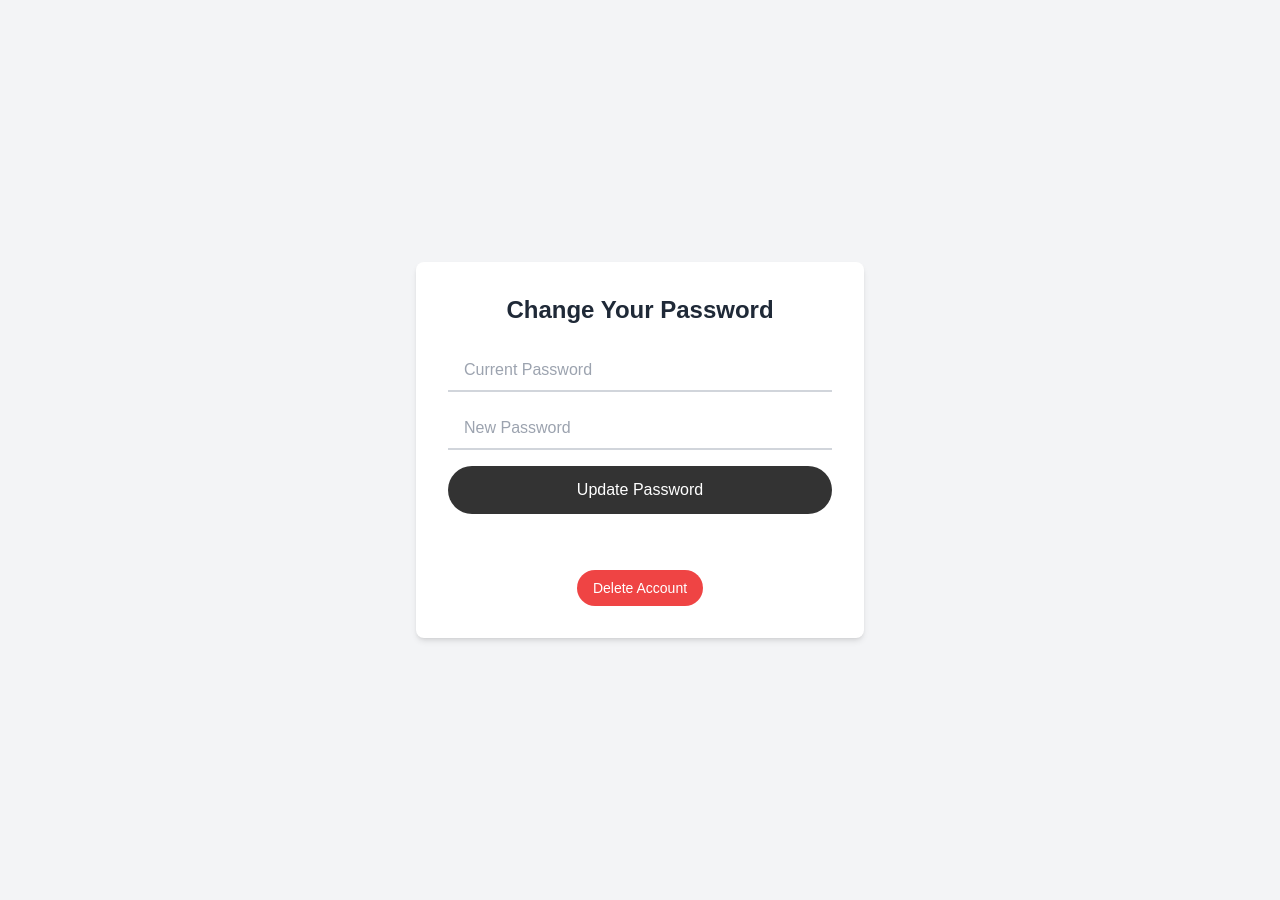
UpdateAccountPage › opens the delete account modal when current password is provided
Note: Enter the current password
Type "current-password" into the password field with placeholder "Current Password" at (640,371), box [448,350,832,392]
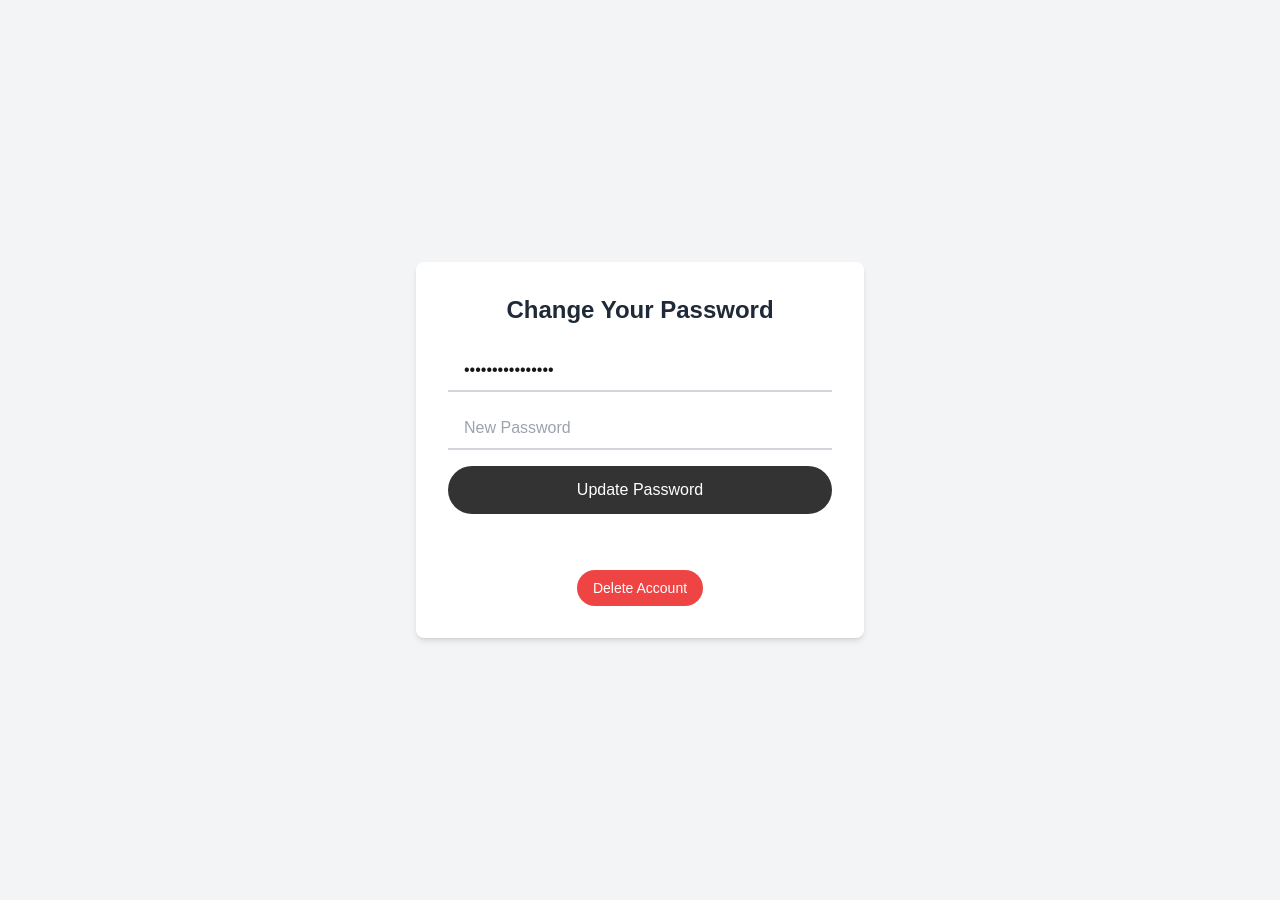
Note: Click the "Delete Account" button
Click the button with aria-label "delete your account" at (640,588), box [577,570,703,606]
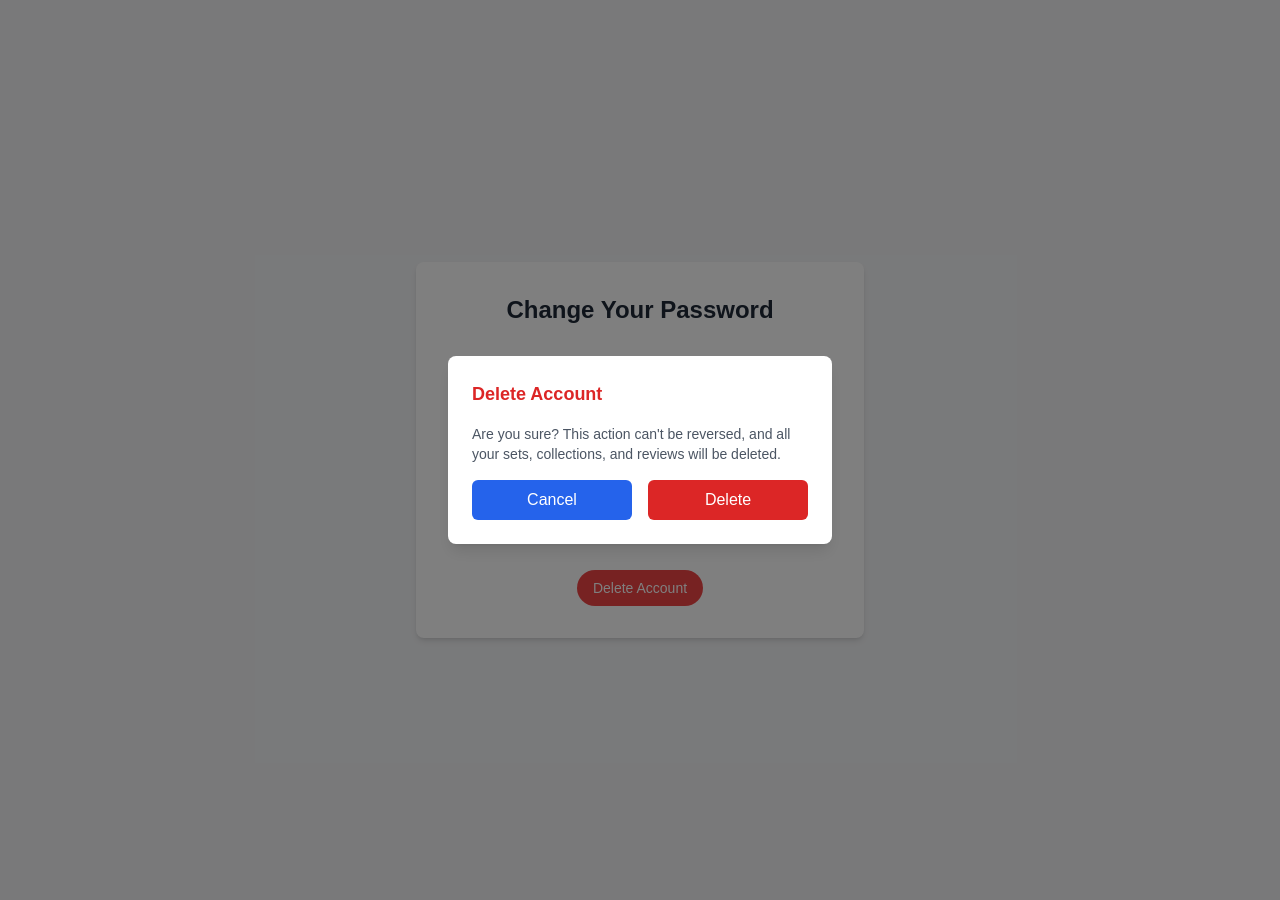
Check: the dialog is shown
Check: the heading "Delete Account" is shown, box [472,384,602,404]
Check: the text "Are you sure? This action can't be reversed" is shown, box [472,426,790,462]
